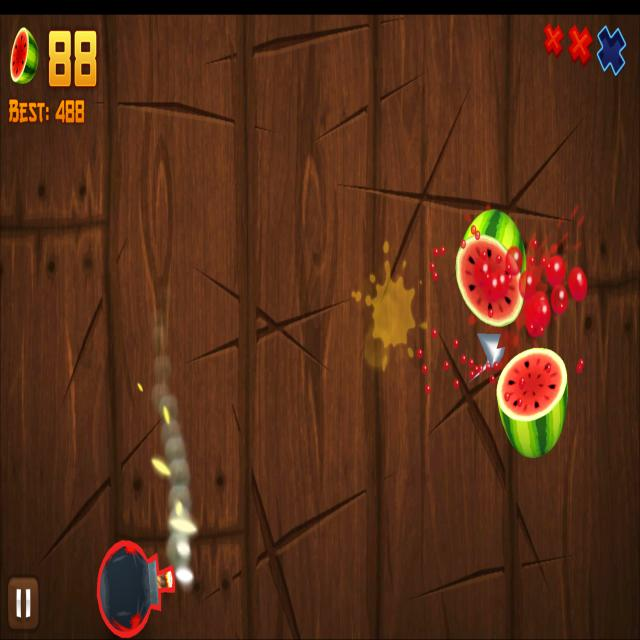bomb: (96, 541, 176, 637)
